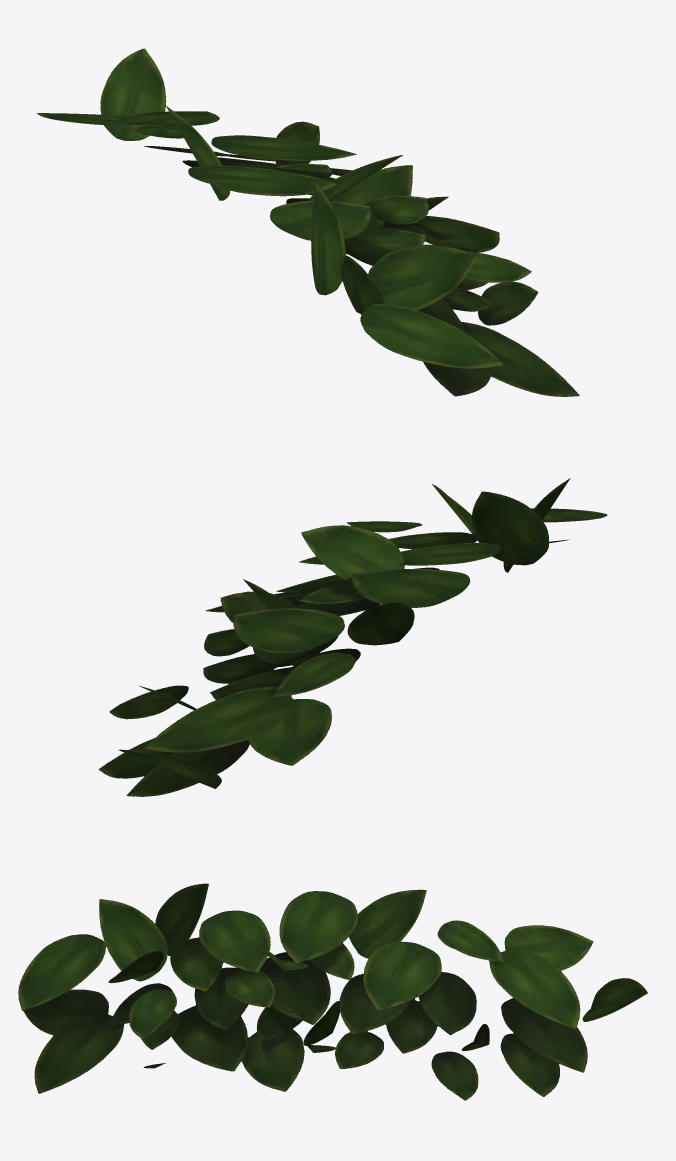
3 renders of one model, top to bottom at view 1: azimuth 30°, elevation 25°; view 2: azimuth 150°, elevation 25°; view 3: azimuth 270°, elevation 25°, orthographic. The views are drawn at different scales.
Parts seen in each view (by area): view 1: body0_model0_lod0_mesh0; view 2: body0_model0_lod0_mesh0; view 3: body0_model0_lod0_mesh0.
Boxes of the visible parts, x1,y1,x2,y2 form: body0_model0_lod0_mesh0: (37,48,579,396); body0_model0_lod0_mesh0: (98,478,607,796); body0_model0_lod0_mesh0: (18,883,647,1100).
Size of the model in its own units: 81.03 by 62.94 by 188.
Materials: 1 (1 with a texture image).
